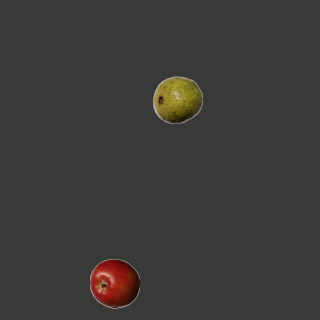Apple Braeburn: (89, 258, 139, 308)
Guava: (152, 74, 202, 124)
